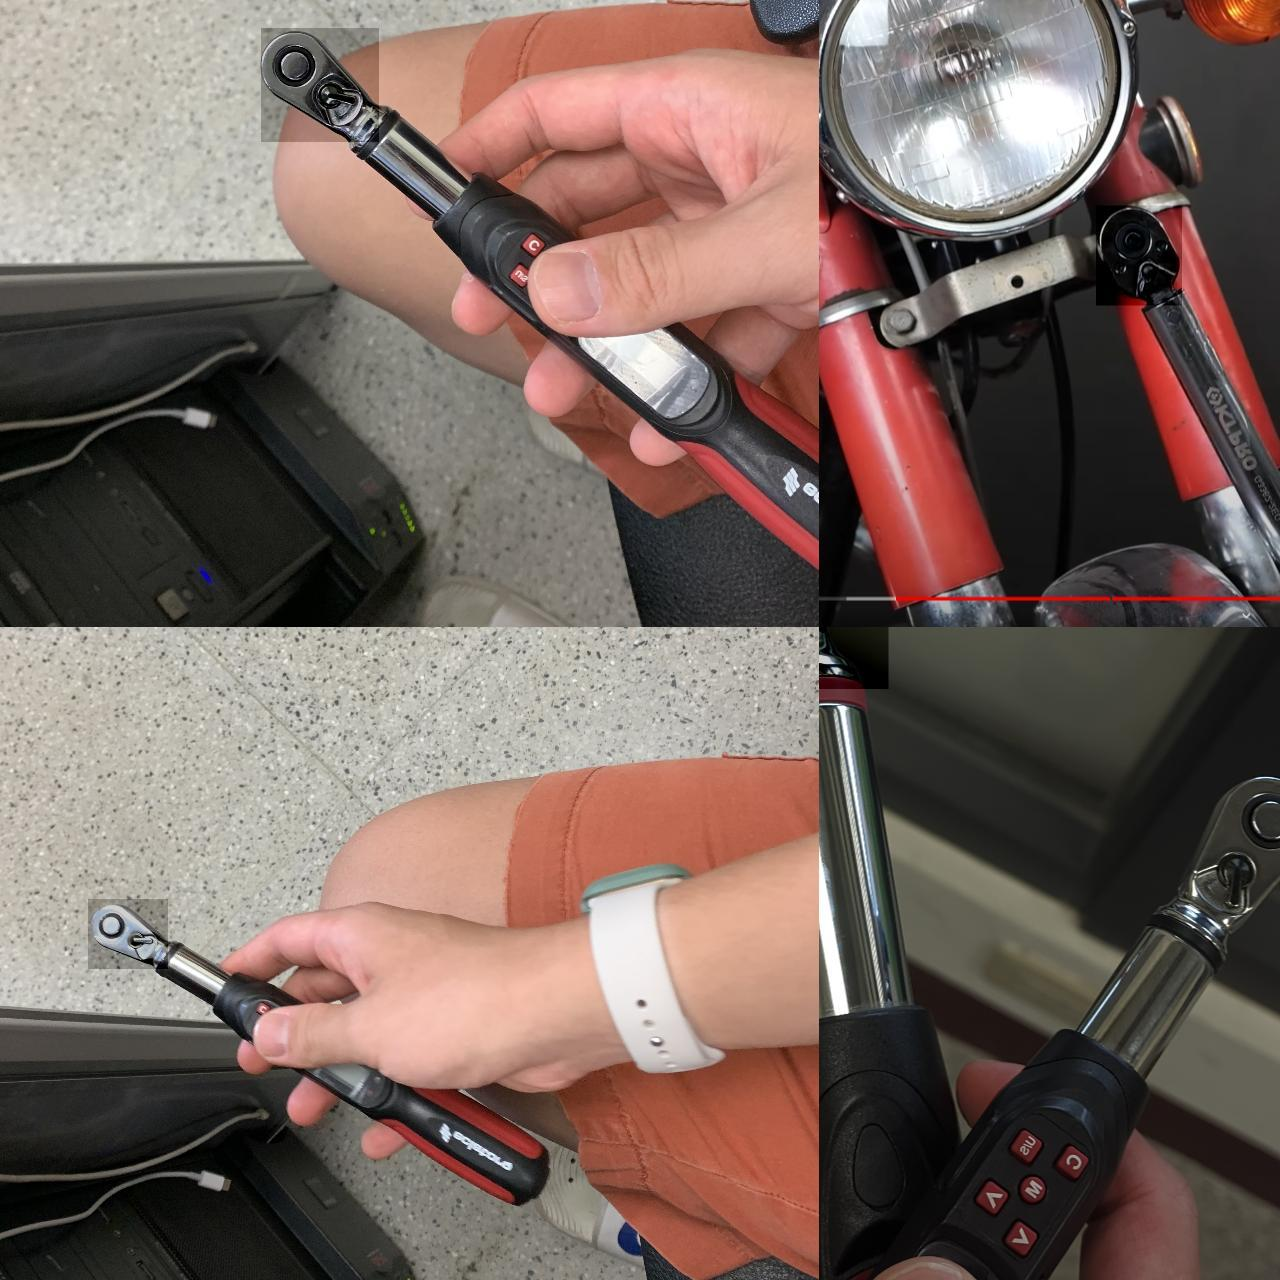Tool: (1165, 772, 1280, 948), (261, 28, 379, 142), (1096, 205, 1182, 305), (88, 899, 168, 969)
